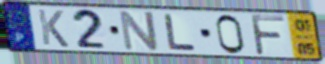0: (214, 13, 247, 55)
2: (71, 7, 112, 53)
F: (248, 13, 287, 57)
K: (36, 8, 71, 49)
L: (162, 13, 199, 51)
N: (117, 9, 161, 52)
